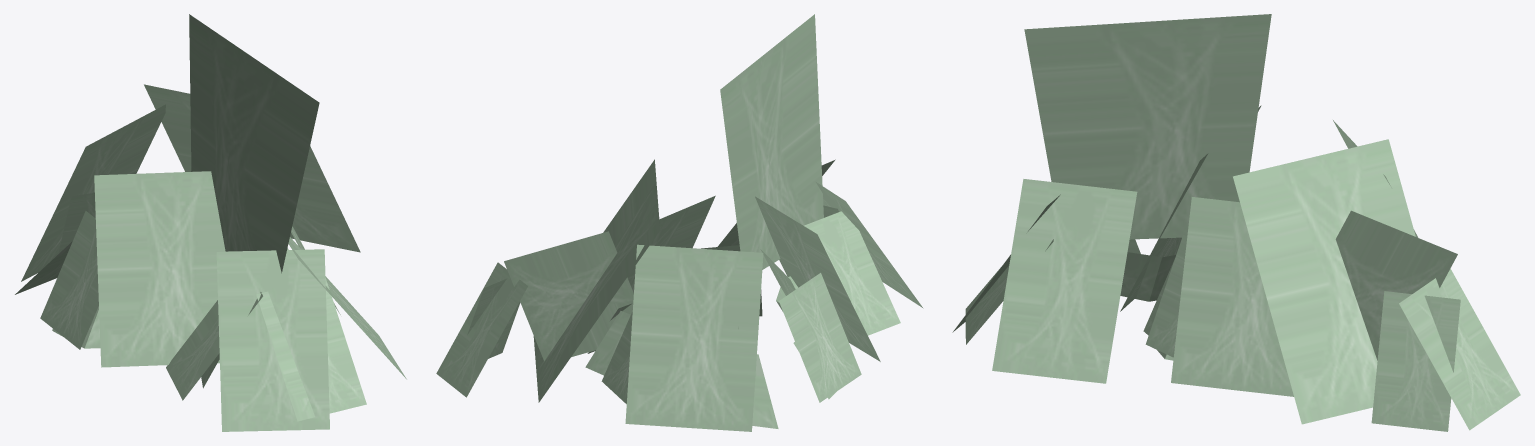
The model's file is 6001_Item_zhizhuwang_5.FBX.
3 renders of one model, left to right at view 1: azimuth 30°, elevation 25°; view 2: azimuth 150°, elevation 25°; view 3: azimuth 270°, elevation 25°, orthographic. The views are drawn at different scales.
Visible parts, largest first — view 1: 6001_Item_zhizhuwang_5; view 2: 6001_Item_zhizhuwang_5; view 3: 6001_Item_zhizhuwang_5.
Boxes of the visible parts, x1,y1,x2,y2 form: 6001_Item_zhizhuwang_5: [15, 14, 406, 431]; 6001_Item_zhizhuwang_5: [436, 14, 923, 431]; 6001_Item_zhizhuwang_5: [952, 14, 1520, 431].
Size of the model in its own units: 665 by 565 by 899.
1 material, 1 textured.
